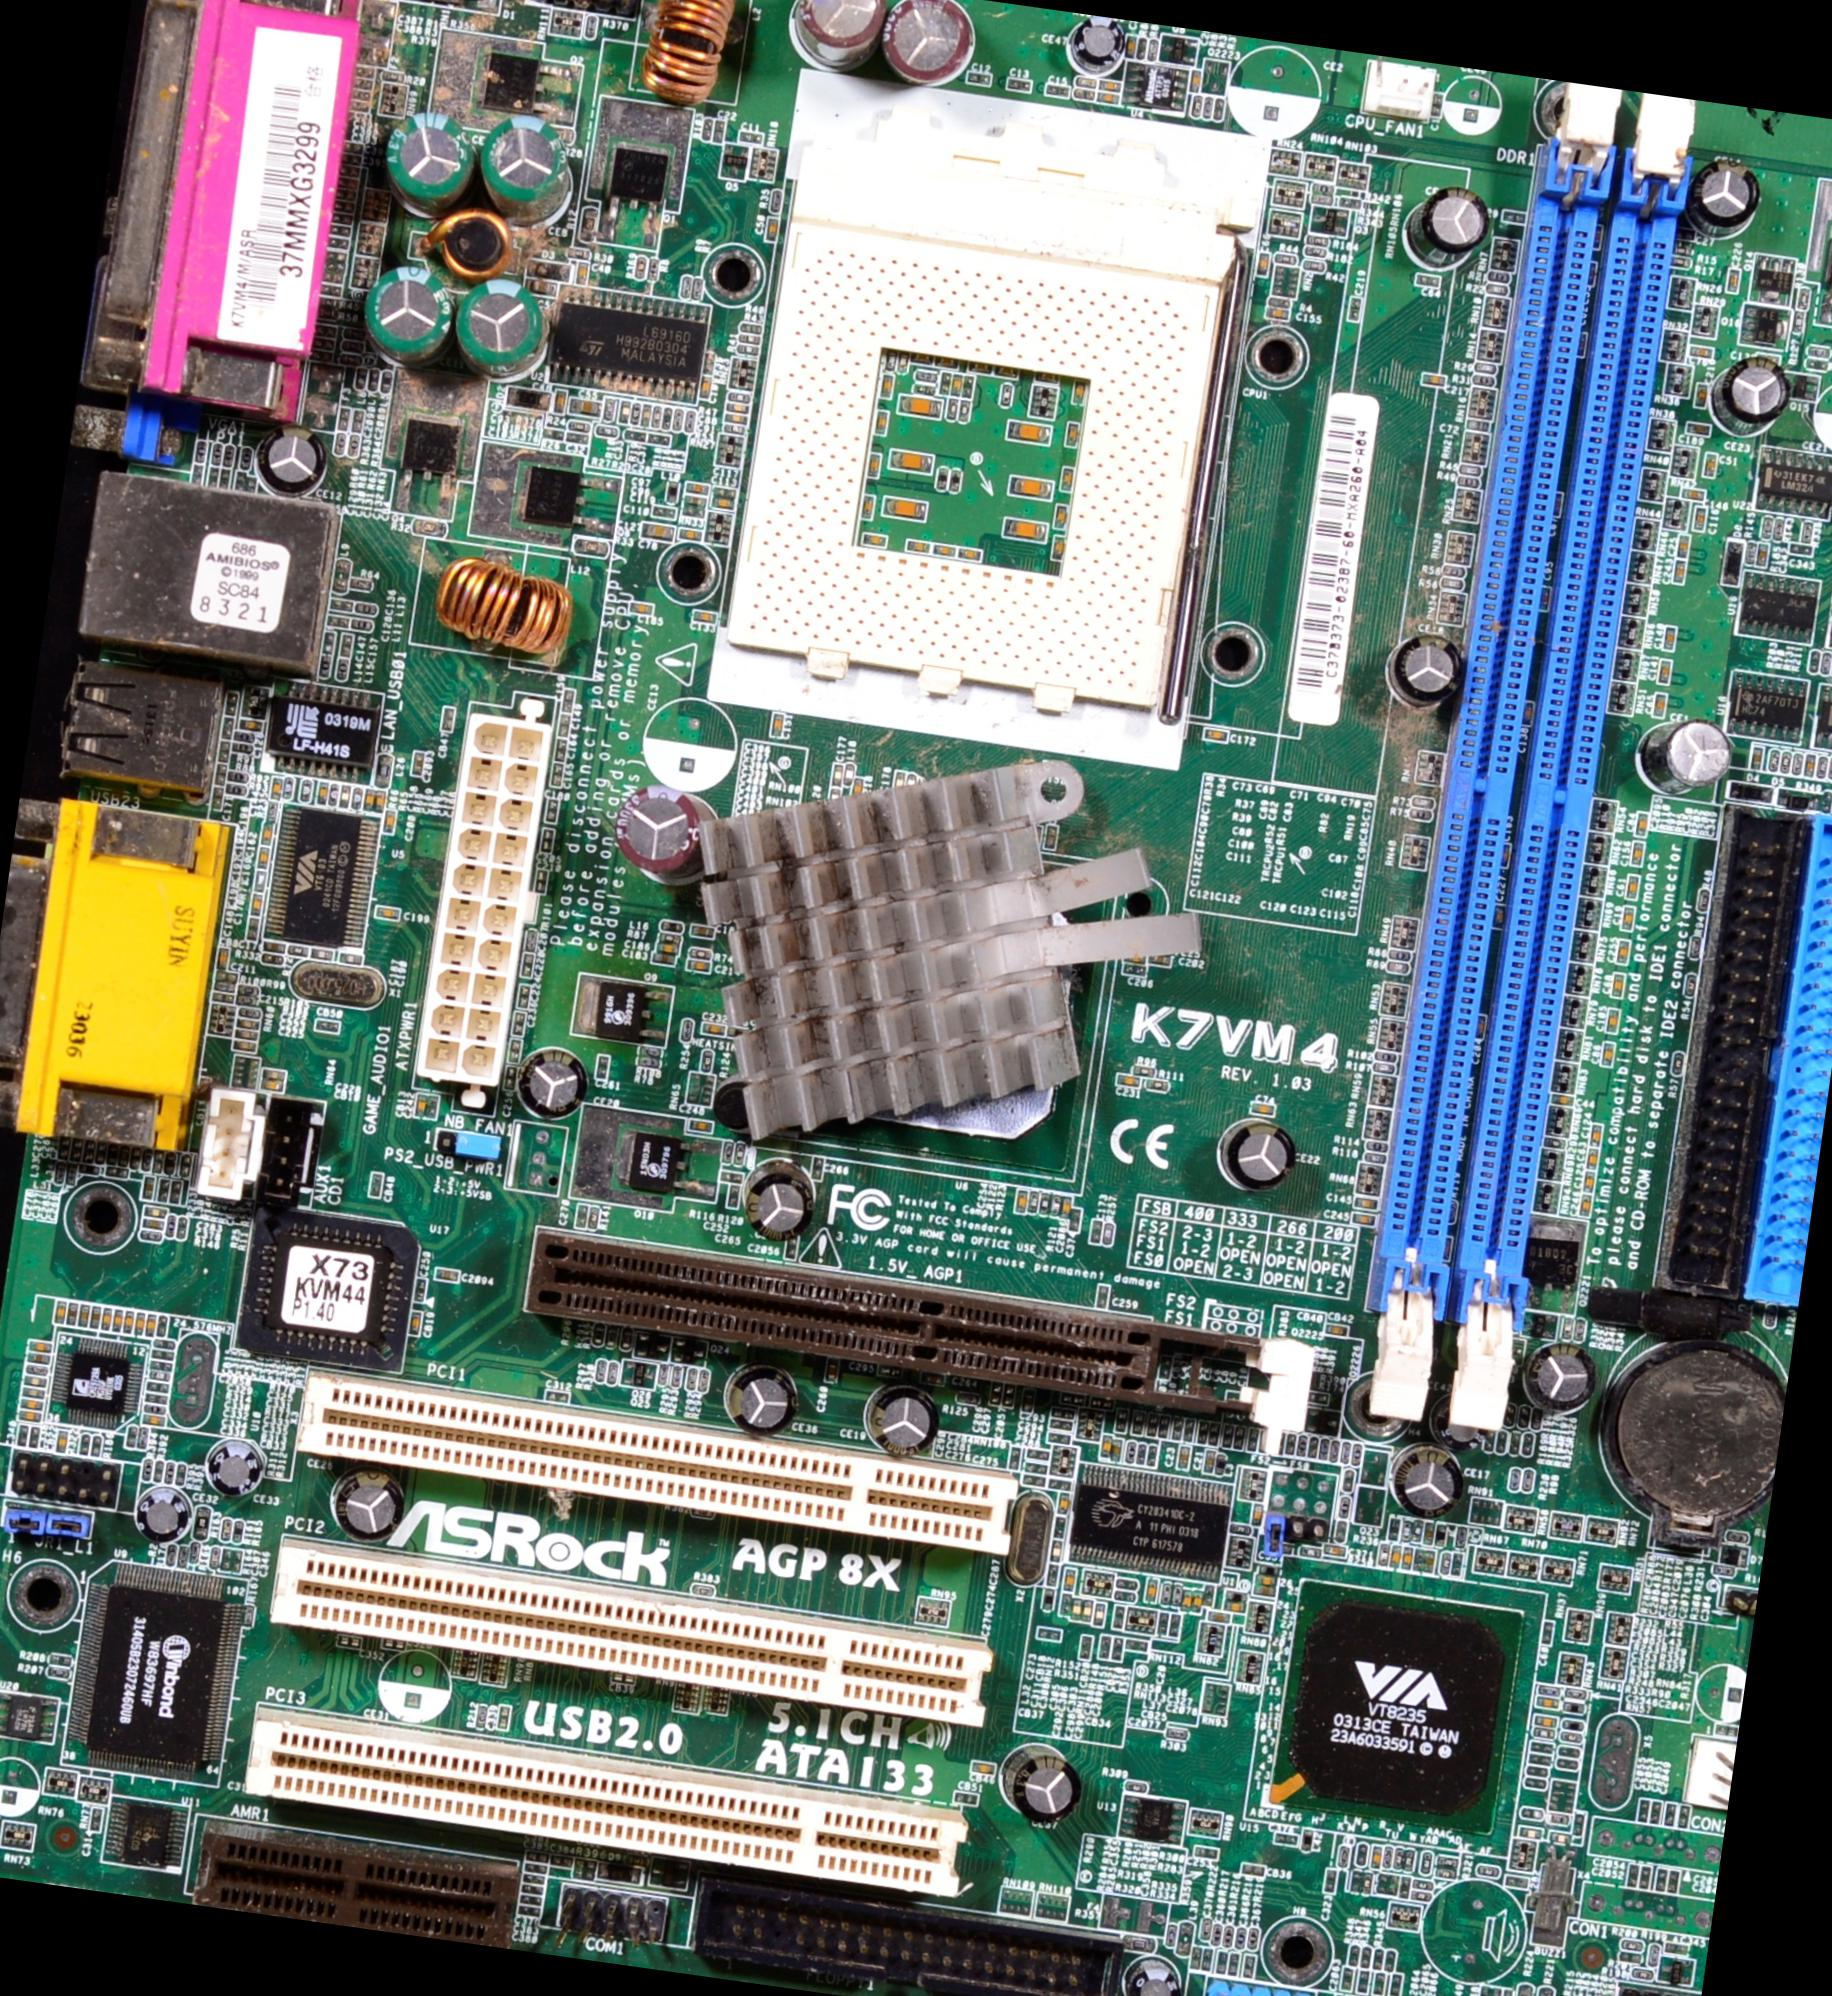Capacitor Jumper: (1250, 1099, 1276, 1116), (1352, 1210, 1378, 1228), (687, 1116, 713, 1134), (725, 1182, 742, 1208), (688, 921, 716, 937), (1531, 1714, 1559, 1730), (1517, 1824, 1545, 1840), (495, 1702, 511, 1730), (1347, 296, 1363, 323), (1679, 485, 1707, 501), (906, 449, 930, 466), (594, 1054, 610, 1080), (1013, 1188, 1029, 1214), (367, 1172, 382, 1198), (1324, 1321, 1351, 1337), (143, 1203, 169, 1219), (412, 1276, 428, 1302), (407, 1309, 422, 1335), (52, 1299, 68, 1325), (1648, 1798, 1663, 1824), (1663, 1801, 1679, 1827), (335, 1633, 362, 1648), (1323, 1867, 1338, 1893), (1340, 1965, 1356, 1991), (1213, 1949, 1229, 1975), (1265, 304, 1291, 320), (1702, 452, 1717, 478), (1015, 478, 1041, 494), (1662, 624, 1677, 650), (1630, 840, 1646, 866), (1387, 1972, 1404, 1994), (1726, 266, 1740, 294), (1430, 89, 1444, 116), (23, 1374, 47, 1389), (970, 1758, 994, 1773), (1637, 1864, 1653, 1888), (1663, 1940, 1688, 1956), (1356, 1968, 1371, 1993), (1691, 506, 1707, 530), (1789, 541, 1813, 556), (1625, 875, 1641, 899), (687, 958, 713, 972), (1116, 1073, 1142, 1087), (700, 1022, 727, 1036), (1352, 1196, 1378, 1210), (414, 1094, 428, 1120), (1088, 1217, 1102, 1243), (1724, 1528, 1750, 1542), (1450, 1549, 1464, 1575), (1535, 1695, 1561, 1709), (1637, 1796, 1651, 1822), (1677, 1803, 1691, 1829), (1274, 1831, 1300, 1845), (1688, 344, 1714, 358), (1695, 383, 1709, 409), (1422, 372, 1448, 386), (1658, 657, 1672, 683), (1653, 692, 1667, 718), (1616, 939, 1630, 965), (655, 937, 678, 953), (1578, 1193, 1594, 1215), (720, 1168, 742, 1184), (516, 1902, 539, 1918), (879, 376, 895, 398), (1123, 961, 1147, 975), (652, 951, 676, 965), (810, 1156, 824, 1181), (435, 1266, 459, 1280), (1422, 1520, 1436, 1544), (24, 1361, 49, 1375), (19, 1396, 43, 1410), (381, 1638, 405, 1652), (956, 1789, 980, 1803), (1241, 1862, 1265, 1876), (1243, 1954, 1257, 1979), (1225, 1951, 1239, 1975), (89, 1806, 103, 1831), (1255, 250, 1269, 275), (1686, 421, 1710, 435), (1013, 424, 1041, 436), (1205, 727, 1229, 741), (1549, 1827, 1570, 1843), (141, 1414, 167, 1426), (608, 1673, 634, 1685), (1072, 381, 1085, 407), (1757, 541, 1769, 567), (1750, 744, 1762, 770), (1589, 1123, 1603, 1146), (1067, 1208, 1081, 1231), (1387, 1518, 1401, 1540), (1399, 1546, 1413, 1568), (1667, 1869, 1681, 1892), (527, 1848, 549, 1862), (1373, 1972, 1387, 1994), (1417, 273, 1439, 287), (907, 398, 930, 412), (640, 523, 662, 537), (1601, 1041, 1613, 1066), (1587, 1146, 1599, 1170), (575, 1203, 587, 1228), (141, 1217, 165, 1229), (122, 1309, 134, 1334), (546, 1389, 570, 1401), (1389, 1542, 1401, 1567), (1413, 1546, 1425, 1570), (229, 1547, 242, 1572), (1655, 1867, 1667, 1892), (1194, 1846, 1218, 1859), (1399, 1873, 1411, 1897), (1191, 1944, 1203, 1968), (520, 1881, 544, 1893), (518, 1892, 542, 1904), (1677, 534, 1689, 558), (1674, 558, 1686, 582), (1623, 906, 1636, 930), (1552, 1092, 1573, 1106), (1038, 1626, 1059, 1640), (1627, 1864, 1641, 1885), (426, 1095, 438, 1118), (1060, 1194, 1072, 1217), (918, 1370, 940, 1382), (89, 1304, 101, 1327), (64, 1302, 76, 1325), (76, 1304, 89, 1327), (26, 1351, 49, 1363), (1425, 1549, 1437, 1572), (23, 1386, 45, 1398), (56, 1429, 68, 1452), (16, 1424, 28, 1447), (221, 1546, 233, 1568), (1371, 1845, 1384, 1867), (574, 1857, 596, 1869), (523, 1862, 546, 1874), (523, 1873, 546, 1885), (893, 501, 916, 513), (1804, 755, 1816, 777), (1608, 1008, 1620, 1031), (784, 1240, 798, 1259), (551, 1852, 570, 1866), (189, 461, 203, 480), (827, 1360, 840, 1381), (111, 1309, 123, 1330), (28, 1341, 49, 1353), (1676, 228, 1696, 240), (19, 1408, 40, 1420), (1542, 1619, 1552, 1643), (1464, 421, 1488, 431), (1010, 522, 1031, 534), (1052, 536, 1064, 556), (1637, 812, 1648, 836), (1613, 972, 1623, 996), (101, 1307, 111, 1330), (28, 1426, 38, 1448), (713, 118, 723, 141), (1203, 1947, 1213, 1970), (554, 389, 565, 412), (353, 409, 363, 431), (966, 71, 986, 83), (866, 532, 885, 544), (1048, 1422, 1074, 1431), (1583, 1170, 1594, 1191), (144, 1313, 155, 1334), (134, 1314, 144, 1335), (1062, 1594, 1072, 1615), (951, 370, 961, 391), (1060, 466, 1071, 487), (1057, 501, 1067, 522), (959, 548, 980, 558), (633, 598, 648, 612), (1050, 85, 1067, 97), (911, 537, 928, 549), (694, 610, 711, 622), (330, 595, 348, 607), (379, 908, 398, 918), (867, 454, 878, 473), (1326, 1546, 1342, 1558), (1178, 1448, 1189, 1466), (940, 369, 949, 389), (655, 508, 673, 518), (565, 690, 574, 711), (441, 709, 450, 730), (866, 490, 873, 515), (1498, 902, 1505, 927), (1027, 1448, 1046, 1457), (1026, 1476, 1045, 1485), (770, 219, 779, 238), (579, 263, 587, 282), (325, 629, 334, 649), (773, 716, 782, 735), (542, 828, 551, 847), (1147, 1414, 1158, 1429), (1184, 1420, 1194, 1436), (1118, 1414, 1128, 1429), (1130, 1638, 1145, 1648), (341, 786, 351, 802), (316, 784, 327, 800), (250, 895, 259, 913), (1064, 1391, 1081, 1400), (1005, 1386, 1013, 1403), (991, 1384, 999, 1401), (1050, 1436, 1067, 1445), (1086, 1601, 1095, 1619), (833, 763, 841, 781), (382, 808, 391, 826), (621, 405, 633, 417), (539, 869, 546, 890), (1100, 1634, 1107, 1655), (1114, 1638, 1121, 1659), (1524, 699, 1531, 720), (546, 800, 553, 821), (217, 949, 226, 965), (235, 1041, 250, 1050), (1170, 1420, 1178, 1436), (1112, 1441, 1121, 1457), (1059, 1497, 1067, 1513), (878, 410, 886, 426), (730, 400, 746, 409), (728, 414, 744, 422), (1502, 847, 1510, 862), (1008, 82, 1027, 89), (527, 928, 534, 948), (883, 1368, 902, 1375), (1133, 1412, 1140, 1431), (1224, 1426, 1231, 1445), (1052, 1408, 1071, 1415), (1206, 1452, 1213, 1471), (1147, 1579, 1154, 1598), (641, 402, 648, 421), (339, 407, 346, 426), (1542, 589, 1549, 609), (348, 622, 367, 629), (560, 715, 567, 734), (240, 722, 259, 729), (318, 1019, 330, 1029), (353, 75, 365, 85), (523, 956, 530, 974), (1288, 1436, 1295, 1454), (1354, 1447, 1361, 1464), (155, 1349, 172, 1356), (1053, 1481, 1071, 1488), (1053, 1542, 1060, 1560), (1074, 1601, 1081, 1619), (961, 377, 968, 395), (1065, 424, 1072, 442), (1126, 35, 1133, 52), (553, 763, 560, 781), (365, 789, 372, 807), (264, 822, 271, 840), (1083, 1634, 1088, 1657), (1022, 1391, 1029, 1407), (1250, 1429, 1257, 1445), (1012, 1448, 1019, 1464), (148, 1394, 163, 1401), (699, 379, 706, 395), (212, 468, 219, 483), (341, 635, 348, 650), (556, 741, 563, 756), (271, 781, 278, 796), (358, 64, 370, 73), (1479, 1986, 1491, 1994), (356, 101, 368, 110), (242, 476, 250, 489), (853, 777, 862, 789), (1211, 1422, 1217, 1441), (520, 988, 527, 1001), (1097, 1396, 1111, 1403), (1309, 1440, 1316, 1454), (744, 136, 758, 143), (1490, 1987, 1503, 1994), (1104, 82, 1118, 89), (374, 791, 381, 805), (508, 1069, 513, 1087), (1161, 1415, 1166, 1433), (1241, 1429, 1246, 1447), (1321, 1441, 1326, 1459), (1104, 1438, 1109, 1455), (690, 483, 700, 492), (1192, 71, 1198, 89), (257, 850, 264, 862), (268, 942, 280, 949), (511, 1040, 518, 1052), (1192, 1594, 1199, 1607), (1502, 1987, 1514, 1994), (353, 89, 365, 96), (577, 402, 589, 409), (572, 435, 584, 442), (233, 475, 240, 487), (358, 603, 370, 610), (329, 617, 341, 624), (236, 1031, 252, 1036), (1199, 1422, 1205, 1438), (1300, 1436, 1305, 1452), (1344, 1445, 1349, 1460), (1029, 1466, 1045, 1471), (1161, 1615, 1166, 1631), (224, 473, 229, 489), (1479, 1017, 1483, 1040), (1065, 1572, 1071, 1586), (1099, 1607, 1104, 1620), (1172, 1617, 1177, 1631), (683, 529, 694, 536), (1184, 1594, 1189, 1607), (516, 1014, 521, 1024), (242, 1019, 252, 1024), (151, 1382, 162, 1387), (1258, 1577, 1269, 1582), (268, 1080, 275, 1087), (151, 1365, 165, 1368), (935, 544, 949, 548), (292, 946, 301, 951), (269, 1069, 278, 1075), (718, 499, 727, 504), (1335, 1443, 1338, 1455), (1229, 1603, 1239, 1607), (1100, 96, 1105, 99)
Connector: (1469, 226, 1656, 1267), (1397, 203, 1582, 1222), (306, 1570, 937, 1711), (329, 1400, 966, 1535), (290, 1728, 897, 1871), (1361, 59, 1436, 120)
IC: (1297, 1612, 1500, 1813), (64, 1558, 243, 1786), (1074, 1476, 1215, 1567), (273, 812, 370, 942), (556, 296, 695, 386), (47, 1330, 149, 1424), (1752, 443, 1830, 522), (1738, 572, 1818, 642), (104, 1800, 184, 1867), (1728, 673, 1806, 741), (275, 704, 351, 753), (1119, 1793, 1187, 1845), (0, 1688, 59, 1744), (1126, 66, 1180, 106), (1811, 683, 1830, 756)
Resistor Jumper: (191, 1504, 210, 1539), (881, 344, 897, 376), (1123, 1777, 1151, 1794), (687, 946, 713, 961), (634, 1054, 660, 1069), (1795, 285, 1811, 311), (1531, 1739, 1556, 1754), (1476, 1864, 1500, 1880), (1646, 1942, 1662, 1966), (1302, 257, 1328, 271), (1743, 539, 1757, 565), (139, 1228, 162, 1243), (1418, 1850, 1434, 1873), (1808, 344, 1830, 360), (1801, 522, 1816, 544), (721, 1139, 735, 1163), (586, 1203, 600, 1228), (163, 1214, 177, 1238), (1507, 1466, 1521, 1490), (136, 1426, 149, 1450), (1564, 1687, 1589, 1700), (1528, 1751, 1552, 1765), (1556, 1756, 1580, 1770), (1547, 1812, 1571, 1826), (1349, 1869, 1363, 1893), (572, 1866, 596, 1880), (1304, 233, 1331, 245), (1472, 372, 1497, 386), (1458, 462, 1483, 476), (1771, 516, 1785, 541), (1441, 563, 1465, 577), (1808, 650, 1822, 675), (1410, 807, 1434, 821), (1688, 934, 1702, 958), (1519, 1469, 1535, 1490), (89, 1434, 104, 1455), (1038, 1191, 1050, 1217), (176, 1215, 188, 1241), (1378, 1540, 1391, 1567), (1307, 193, 1333, 205), (1147, 1078, 1170, 1092), (699, 1047, 713, 1069), (1102, 1222, 1116, 1245), (1573, 1318, 1587, 1341), (1561, 1318, 1575, 1341), (1521, 1433, 1535, 1455), (1495, 1429, 1509, 1452), (1114, 1577, 1137, 1591), (163, 1542, 177, 1565), (1338, 195, 1361, 209), (1436, 1853, 1458, 1867), (1622, 1937, 1644, 1951), (1371, 1946, 1385, 1968), (1304, 243, 1326, 257), (1274, 250, 1297, 264), (1486, 282, 1509, 296), (1389, 948, 1411, 961), (1373, 1050, 1397, 1062), (1132, 1066, 1156, 1078), (638, 1045, 662, 1057), (1027, 1191, 1039, 1215), (1509, 1429, 1521, 1454), (1712, 1563, 1736, 1575), (125, 1424, 137, 1448), (1311, 181, 1335, 193), (1537, 1683, 1561, 1695), (209, 1544, 221, 1568), (49, 1653, 73, 1666), (1806, 358, 1830, 370), (1267, 296, 1291, 308), (1472, 362, 1497, 374), (47, 1666, 68, 1680), (1357, 1946, 1371, 1966), (1384, 1951, 1397, 1972), (1345, 1946, 1359, 1966), (1488, 269, 1509, 283), (1790, 755, 1804, 775), (1389, 960, 1410, 974), (1670, 1054, 1683, 1076), (1373, 1062, 1396, 1075), (1364, 1139, 1387, 1151), (1364, 1149, 1387, 1161), (1503, 1401, 1516, 1424), (1531, 1407, 1543, 1429), (1517, 1405, 1530, 1427), (1410, 1520, 1422, 1542), (141, 1459, 153, 1481), (219, 1518, 231, 1540), (1557, 1746, 1580, 1758), (1524, 1777, 1547, 1789), (1392, 1845, 1404, 1867), (1382, 1845, 1394, 1867), (1403, 1848, 1415, 1871), (1356, 1841, 1368, 1864), (1338, 1845, 1351, 1867), (1378, 1873, 1401, 1885), (1361, 1871, 1373, 1893), (1618, 1951, 1641, 1963), (1792, 311, 1804, 334), (1768, 749, 1780, 772), (1684, 972, 1696, 995), (657, 932, 683, 942), (1674, 242, 1693, 256), (699, 116, 713, 136), (733, 1142, 746, 1163), (1050, 1194, 1062, 1215), (155, 1314, 167, 1335), (1401, 1518, 1413, 1539), (1455, 1527, 1467, 1547), (692, 1507, 713, 1520), (153, 1457, 163, 1481), (1531, 1728, 1556, 1739), (188, 1542, 200, 1563), (243, 1601, 254, 1626), (1521, 1806, 1542, 1819), (1413, 1878, 1434, 1890), (1248, 1926, 1260, 1947), (1210, 1923, 1222, 1944), (1234, 1926, 1246, 1947), (1761, 516, 1773, 537), (1780, 751, 1792, 772), (1411, 796, 1436, 807), (1698, 888, 1710, 909), (681, 1019, 692, 1041), (1484, 1429, 1495, 1452), (1439, 1551, 1450, 1574), (233, 1520, 243, 1542), (1526, 1765, 1549, 1775), (476, 1704, 487, 1727), (1434, 1867, 1457, 1878), (1410, 1890, 1432, 1900), (1375, 1885, 1397, 1895), (1199, 1918, 1210, 1940), (1224, 1923, 1234, 1946), (1166, 1923, 1177, 1946), (1820, 650, 1830, 673), (593, 1361, 605, 1381), (78, 1433, 90, 1452), (1561, 1730, 1580, 1742), (1672, 256, 1691, 268), (240, 986, 261, 996), (177, 1544, 188, 1565), (1166, 1728, 1187, 1739), (1514, 1984, 1535, 1994), (1443, 577, 1464, 588), (1634, 1966, 1651, 1979), (680, 278, 692, 296), (725, 419, 742, 431), (733, 344, 753, 355), (1458, 475, 1477, 485), (685, 409, 695, 428), (1816, 756, 1827, 775), (1533, 1986, 1556, 1994), (353, 574, 367, 588), (728, 388, 744, 400), (421, 523, 436, 536), (699, 1368, 707, 1389), (687, 1368, 695, 1389), (772, 188, 780, 209), (999, 388, 1010, 405), (605, 398, 615, 416), (546, 428, 563, 438), (238, 447, 249, 464), (1173, 1586, 1182, 1605), (636, 259, 645, 278), (911, 384, 930, 393), (1194, 99, 1205, 115), (648, 259, 657, 276), (598, 428, 615, 436), (198, 440, 207, 457), (587, 21, 596, 37), (264, 953, 280, 961), (155, 1339, 170, 1347), (742, 334, 758, 343), (673, 409, 681, 424), (897, 353, 904, 372), (706, 355, 713, 374), (353, 788, 360, 807), (1205, 96, 1211, 115), (1079, 89, 1093, 97), (959, 1391, 973, 1400), (1163, 1582, 1170, 1600), (697, 282, 704, 299), (1137, 40, 1145, 54), (570, 421, 587, 428), (335, 435, 342, 452), (283, 781, 292, 795), (1302, 1547, 1318, 1554), (652, 409, 659, 424), (212, 443, 219, 459), (231, 742, 247, 749), (231, 770, 243, 779), (229, 784, 242, 793), (341, 951, 355, 958), (673, 1370, 680, 1384), (146, 1405, 160, 1412), (1149, 42, 1156, 56), (238, 734, 252, 741), (574, 245, 584, 254), (167, 1466, 174, 1478), (301, 784, 308, 796), (624, 1332, 629, 1347), (610, 1363, 615, 1379), (177, 1466, 183, 1481), (633, 402, 638, 417), (664, 412, 669, 428), (245, 1007, 254, 1015), (236, 995, 247, 1001), (598, 1328, 603, 1342), (742, 325, 756, 330), (349, 440, 356, 450), (224, 447, 229, 461), (1827, 758, 1830, 779), (1078, 75, 1092, 80), (153, 1370, 165, 1375), (1118, 1593, 1130, 1598), (918, 374, 930, 379), (315, 949, 323, 956), (330, 786, 335, 796), (662, 1367, 666, 1381), (1217, 103, 1218, 118)
Transistor: (617, 1130, 721, 1201), (574, 974, 669, 1043), (1519, 1215, 1585, 1311), (614, 153, 666, 209), (490, 56, 539, 110), (1738, 301, 1792, 349), (1749, 254, 1795, 306), (534, 468, 575, 520), (403, 421, 447, 468), (650, 1857, 690, 1890), (1783, 370, 1822, 402), (1658, 1956, 1695, 1986), (1521, 1309, 1559, 1337), (1311, 209, 1344, 233), (1166, 38, 1187, 61), (727, 150, 742, 177), (643, 1337, 662, 1353), (631, 1367, 650, 1382), (680, 1341, 697, 1356)
